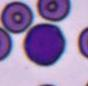L: (24, 22, 66, 66)
